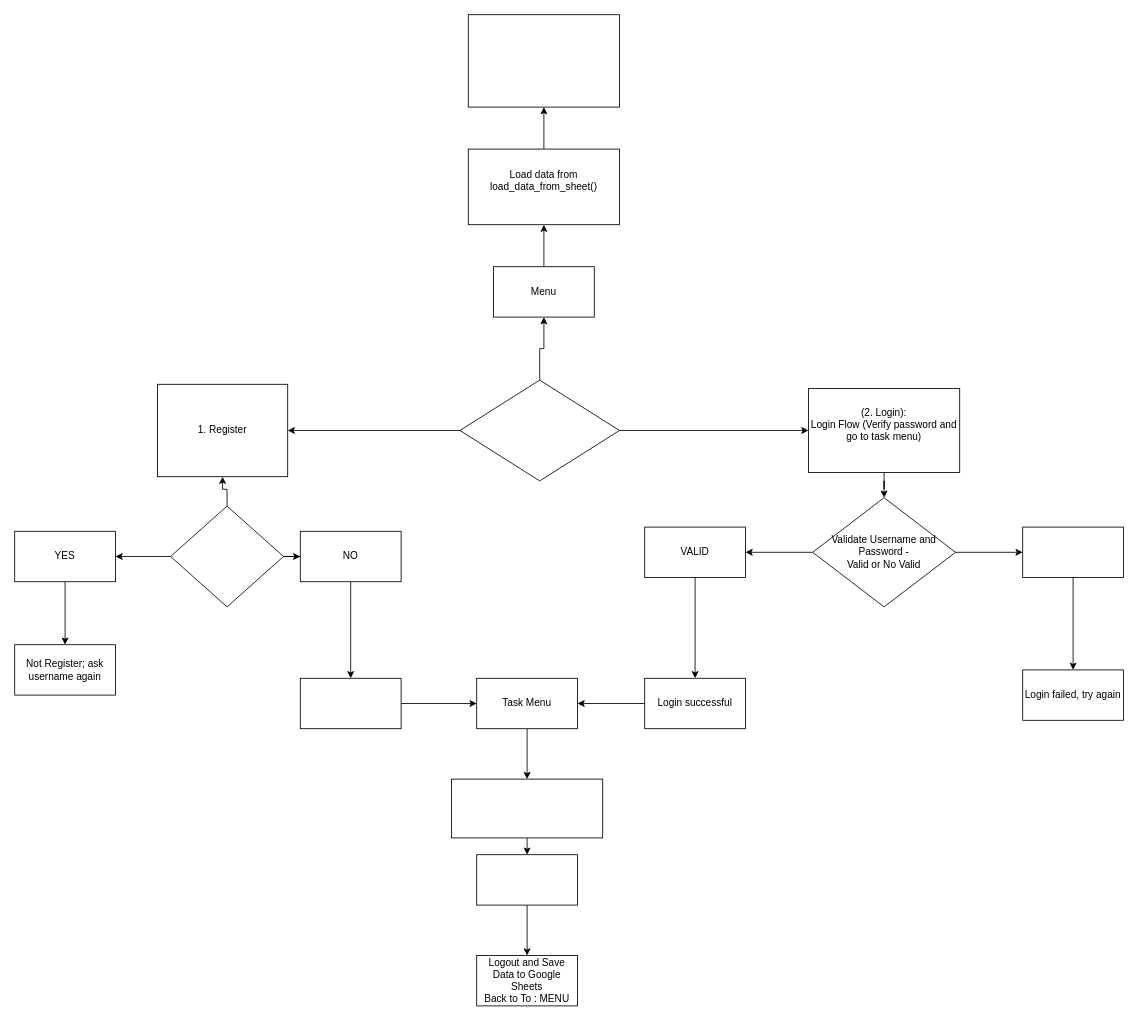
This 1138x1032 diagram has some shape labels left out. The centre of each missing label's shape, as x and y in pixels:
"User chooses 1. Register or 2. Login".: (x=539, y=430)
1. List tasks 2. Update task | | 3. Remove task 4. Sort tasks | | 5. Logout: (x=527, y=808)
Check if user exists - Yes or No: (x=227, y=556)
Logout: (x=527, y=879)
NO VALID: (x=1073, y=552)
Register user (save_data_to_sheet): (x=350, y=703)
Start Task Manager: (x=543, y=60)
